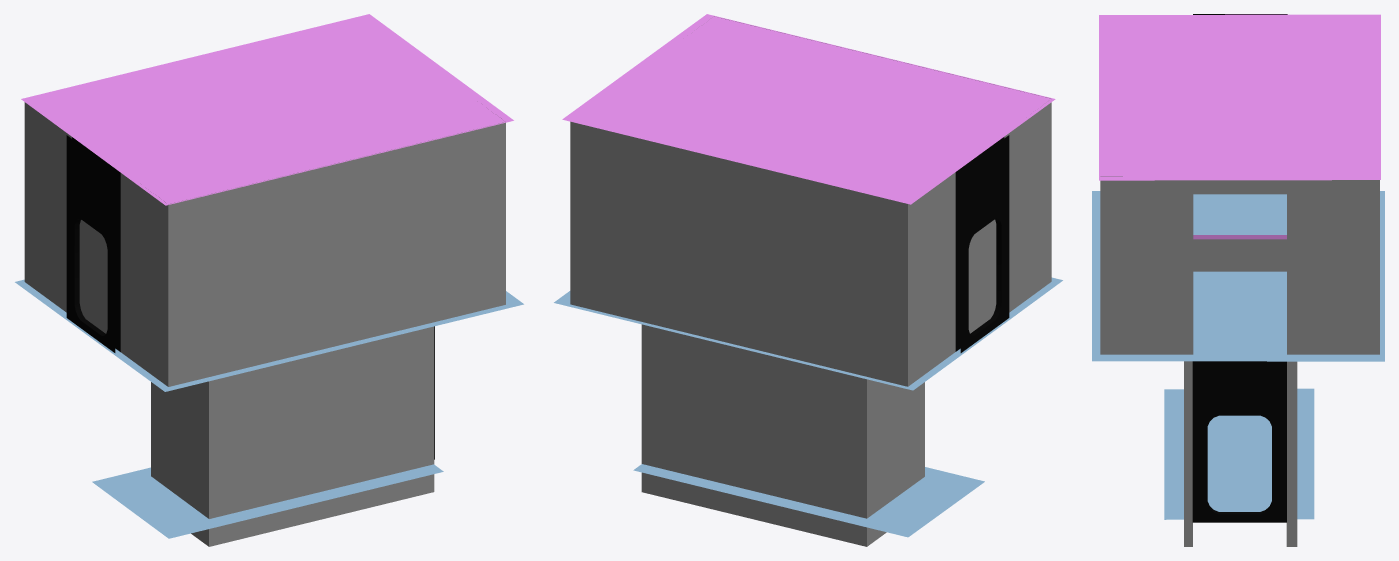
Rendered from bridge.FBX.
3 views of the same model, side by side, from view 1: azimuth 30°, elevation 25°; view 2: azimuth 150°, elevation 25°; view 3: azimuth 270°, elevation 25° (orthographic). The views are drawn at different scales.
Parts seen in each view (by area): view 1: Object148, Box042, Box039, Object147, Box040; view 2: Object148, Box042, Box039, Object147, Box040; view 3: Box042, Object148, Box039, Box040, Object140.
Boxes of the visible parts, <box> form: Object148: <box>24,102,505,386</box>; Box042: <box>21,14,513,205</box>; Box039: <box>15,279,523,546</box>; Object147: <box>66,135,120,352</box>; Box040: <box>92,464,443,538</box>; Object148: <box>570,16,1051,386</box>; Box042: <box>562,14,1055,204</box>; Box039: <box>554,277,1062,546</box>; Object147: <box>955,135,1009,352</box>; Box040: <box>633,464,984,537</box>; Box042: <box>1099,14,1380,180</box>; Object148: <box>1100,176,1379,354</box>; Box039: <box>1092,191,1384,546</box>; Box040: <box>1164,388,1314,519</box>; Object140: <box>1192,361,1286,522</box>.
Bounding box in the file's own units: 63.04 × 66.19 × 45.7.
